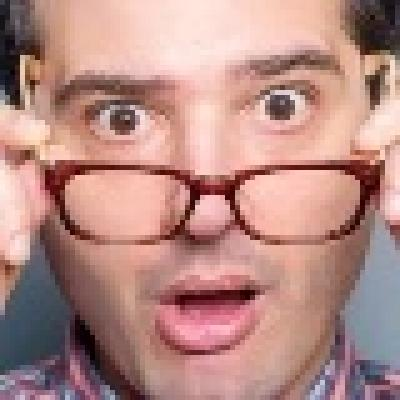surprise: (40, 6, 367, 388)
